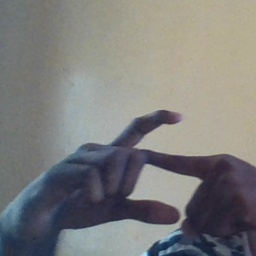E: (59, 102, 218, 230)
